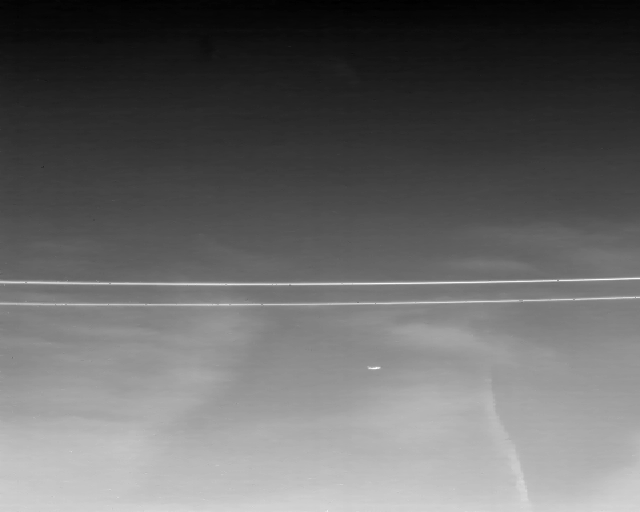Target: (367, 366, 380, 370)
